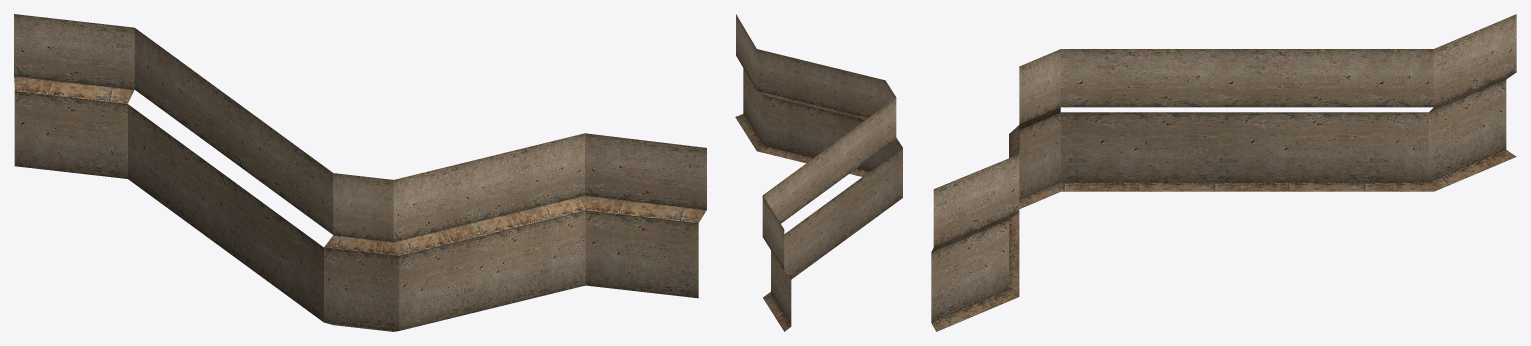
File: M11_CompWallOuter_B.glb
3 views of the same model, side by side, from view 1: azimuth 30°, elevation 25°; view 2: azimuth 150°, elevation 25°; view 3: azimuth 270°, elevation 25° (orthographic). The views are drawn at different scales.
Visible parts, largest first — view 1: M11_COMPWALLOUTER_B; view 2: M11_COMPWALLOUTER_B; view 3: M11_COMPWALLOUTER_B.
Boxes of the visible parts, bbox=[...] form: M11_COMPWALLOUTER_B: bbox=[14, 14, 706, 331]; M11_COMPWALLOUTER_B: bbox=[735, 14, 902, 331]; M11_COMPWALLOUTER_B: bbox=[931, 14, 1516, 331].
Size of the model in its own units: 20.25 by 7.6 by 28.25.
2 materials, 2 textured.
